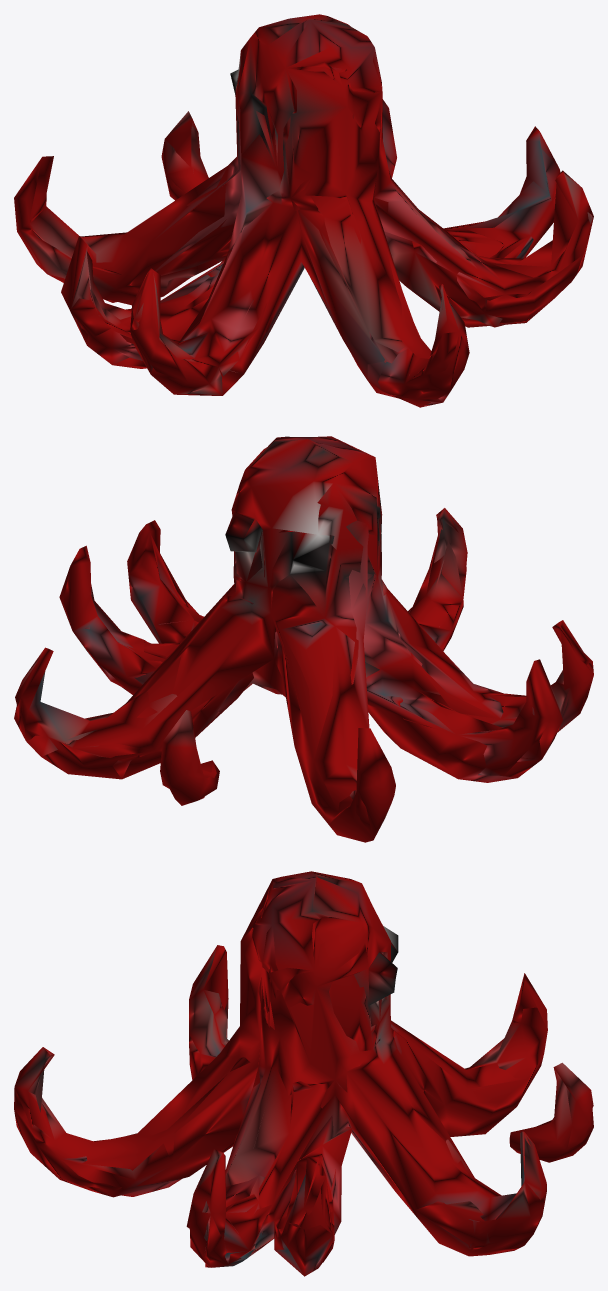
File: gen3d-octopus-lod0.glb
3 views of the same model, one above another, from view 1: azimuth 30°, elevation 25°; view 2: azimuth 150°, elevation 25°; view 3: azimuth 270°, elevation 25° (orthographic).
Parts seen in each view (by area): view 1: part_0; view 2: part_0; view 3: part_0.
Part boxes in pixels (left/top/right/bottom): part_0: left=14, top=14, right=593, bottom=407; part_0: left=14, top=436, right=593, bottom=842; part_0: left=14, top=871, right=593, bottom=1276.
Size of the model in its own units: 1.64 by 0.9999 by 1.65.
